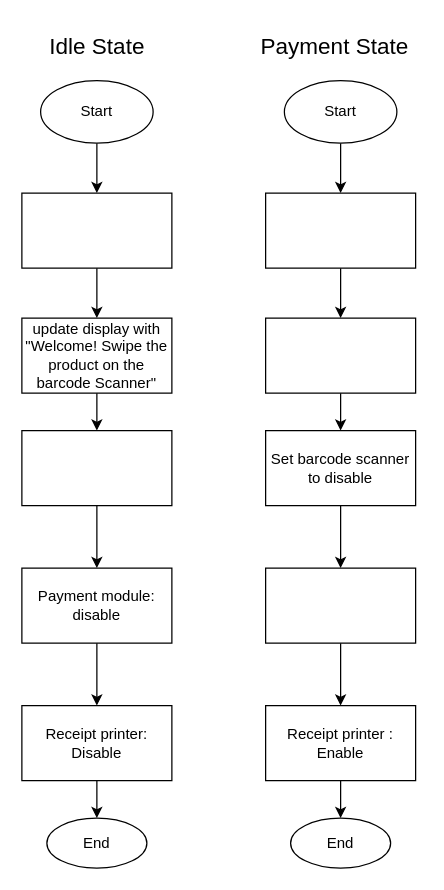
This 444x890 diagram has some shape labels left out. The shapes that lost their labels are listed below. From the top down, each one's box as (x1, y1, x2, y2) in pixels, then its label:
(21, 192, 172, 268): Enable software idle state
(264, 192, 416, 268): Enable Payment State
(264, 317, 416, 393): Update display showing receipt and payment options
(21, 429, 172, 506): Set barcode scanner to enable
(264, 567, 416, 643): Payment module: Enable
